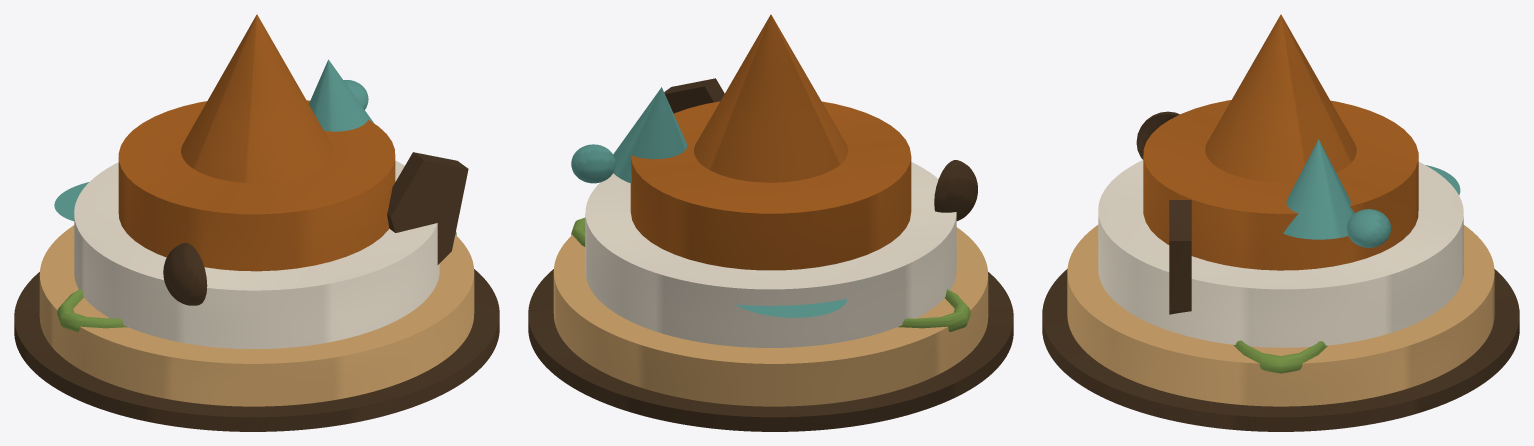
File: 0961_农业科技图鉴_犊牛岛.glb
The picture shows the model from 3 angles, left to right: view 1: azimuth 30°, elevation 25°; view 2: azimuth 150°, elevation 25°; view 3: azimuth 270°, elevation 25°; orthographic projection.
Visible parts, largest first — view 1: card_0961; view 2: card_0961; view 3: card_0961.
Boxes of the visible parts, box(x1,y1,x2,y2) form: card_0961: box(14, 14, 499, 431); card_0961: box(528, 14, 1013, 431); card_0961: box(1042, 14, 1519, 431).
Size of the model in its own units: 1.4 by 1 by 1.37.
